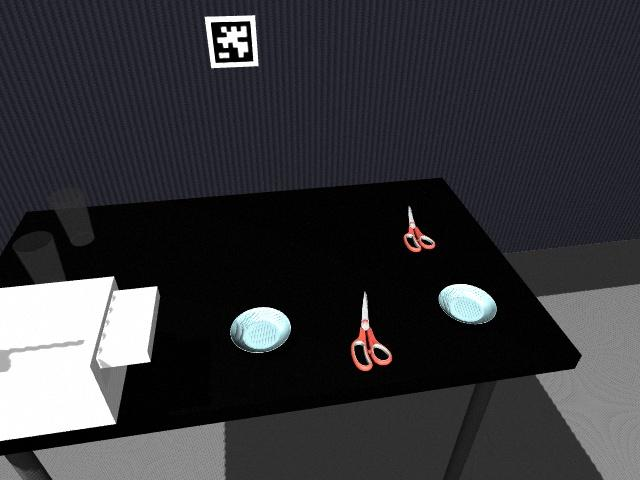cup: (13, 232, 65, 285), (50, 187, 96, 246)
plate: (227, 306, 293, 356), (437, 283, 498, 325)
scissors: (349, 289, 395, 373), (405, 204, 438, 253)
